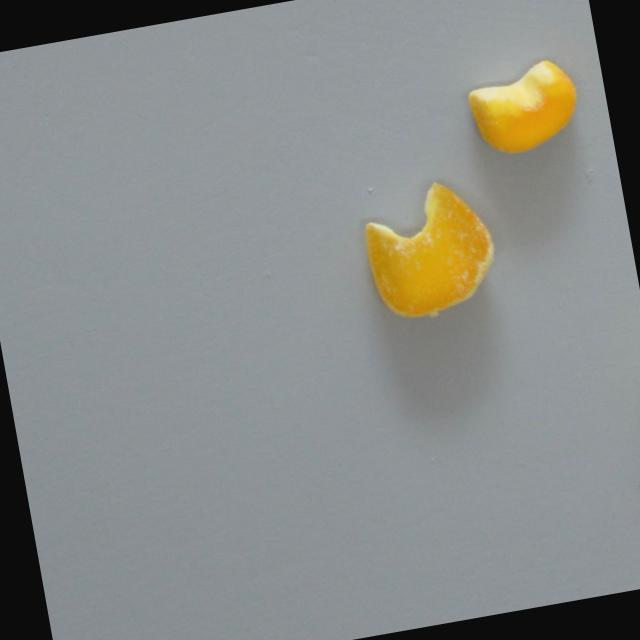no_canjicado: (460, 54, 586, 163)
pelicula: (357, 175, 505, 326)
